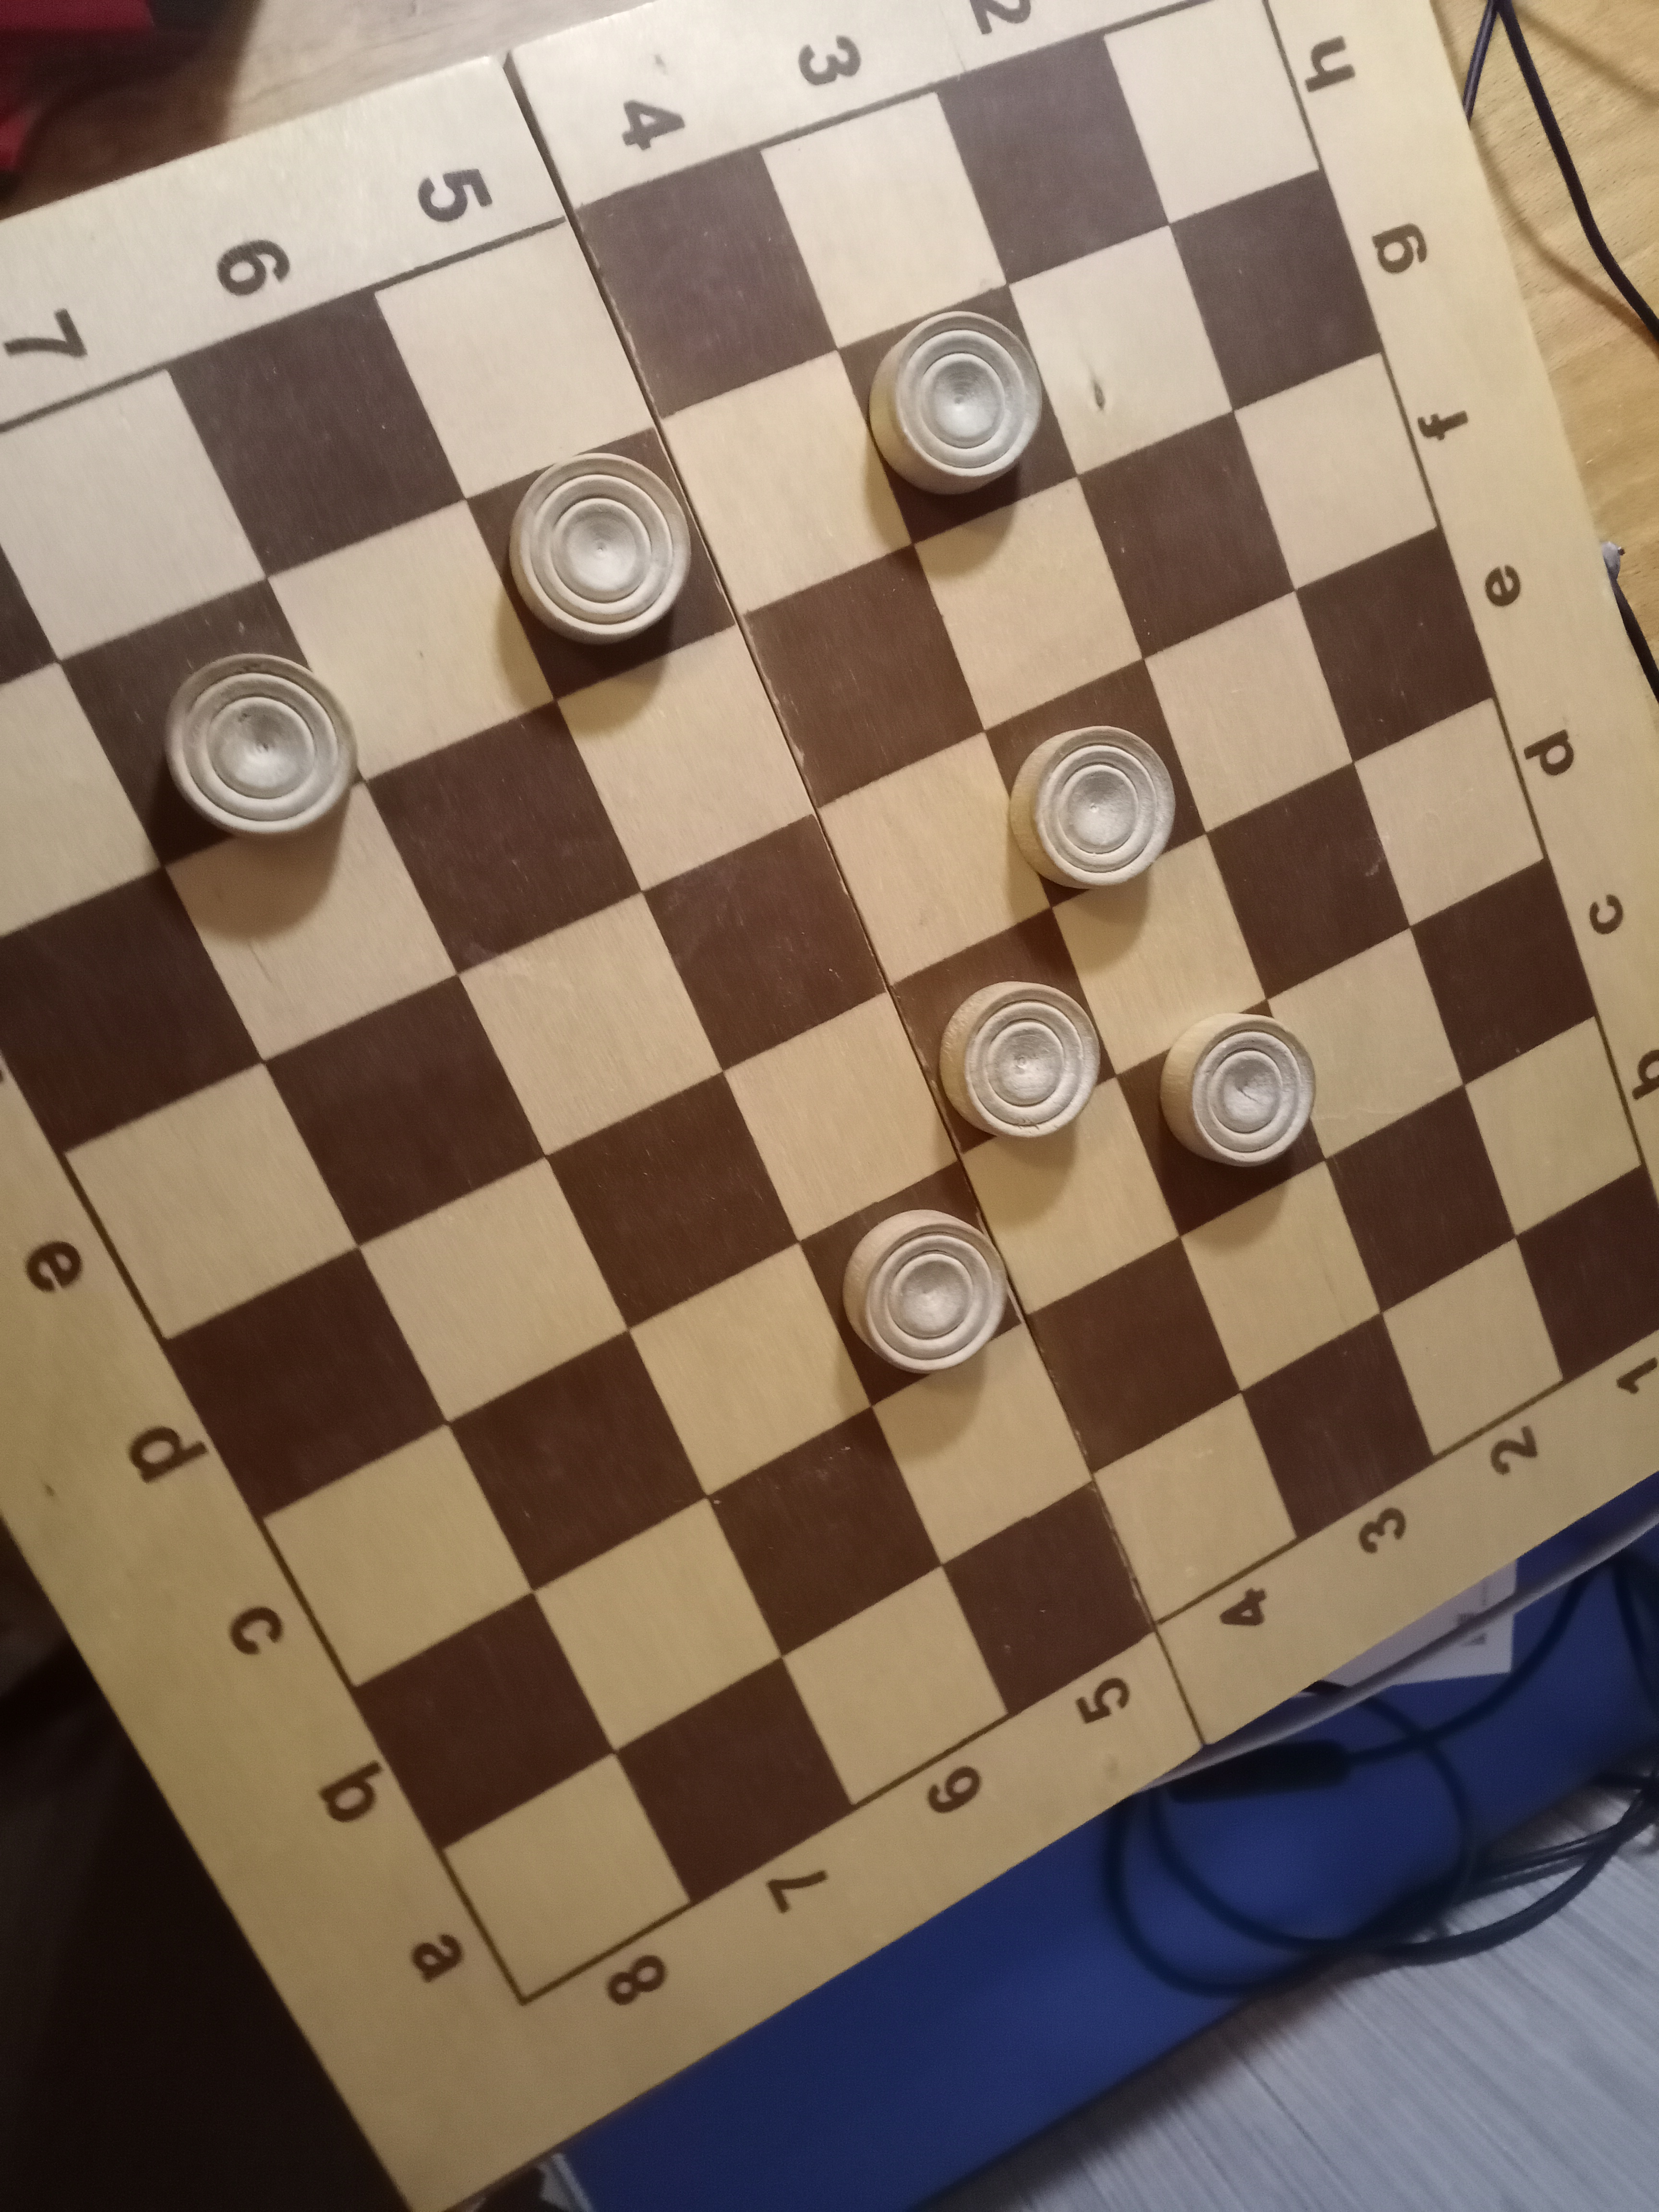White_Draught: (58, 580, 364, 866), (465, 427, 739, 698), (838, 284, 1079, 545), (889, 907, 1117, 1155), (796, 1160, 1021, 1409), (985, 658, 1208, 909), (1119, 998, 1326, 1238)
